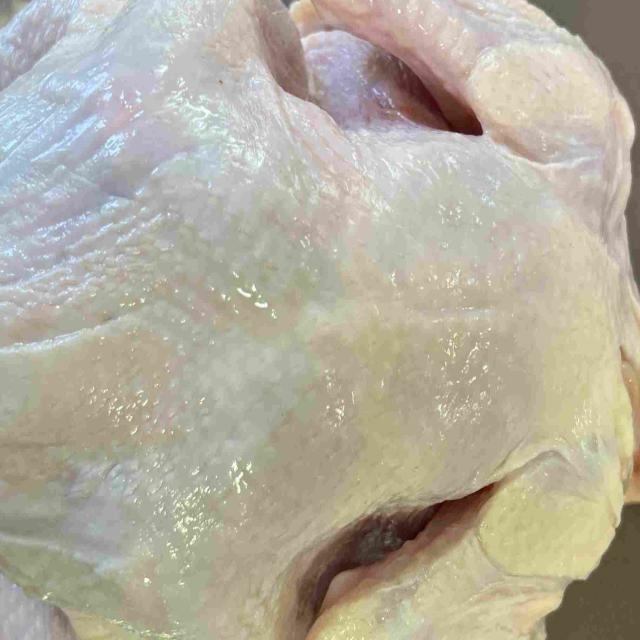back: (0, 69, 601, 516)
leg: (0, 510, 289, 640), (0, 0, 307, 97)
wing: (304, 406, 626, 640), (321, 0, 629, 188)
